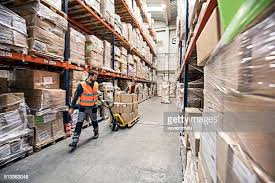Pallet Jack: (100, 100, 140, 132)
